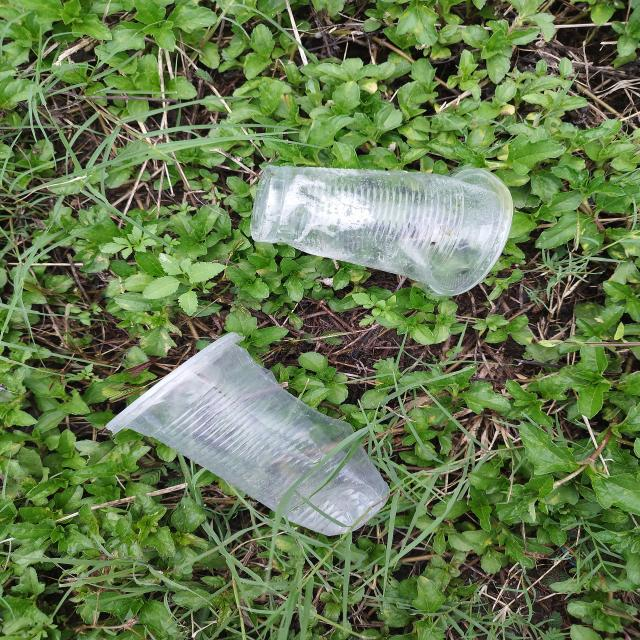plastic glass: (106, 332, 389, 536), (252, 165, 513, 298)
